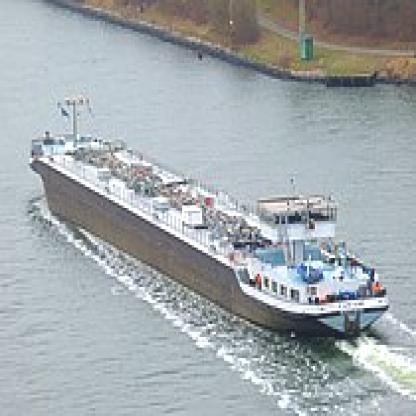Tanker: (24, 79, 400, 355)
